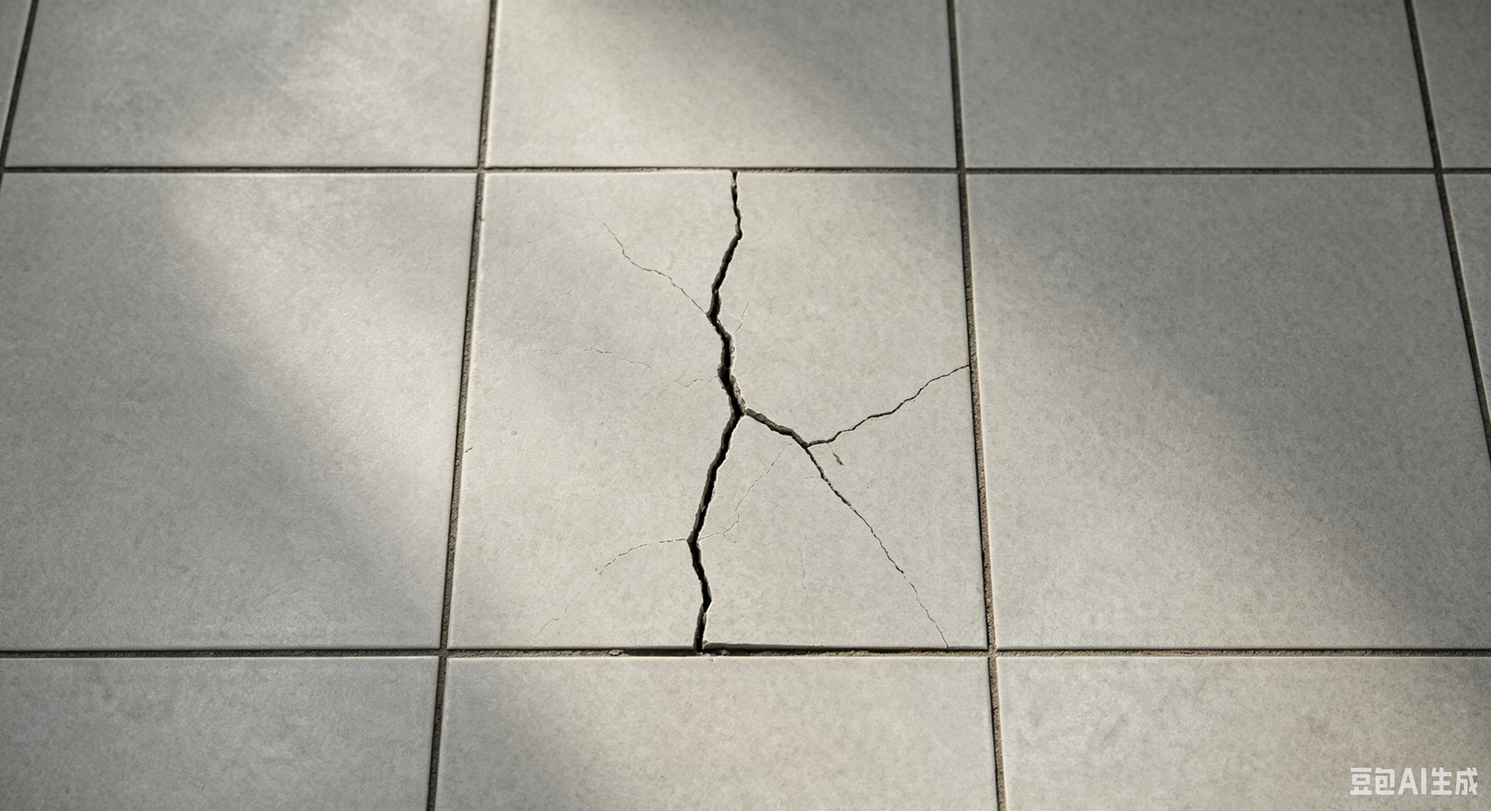floor_defect: (670, 162, 786, 655), (854, 502, 951, 654), (847, 358, 969, 445), (786, 400, 851, 513), (594, 516, 666, 591), (589, 217, 663, 288)
